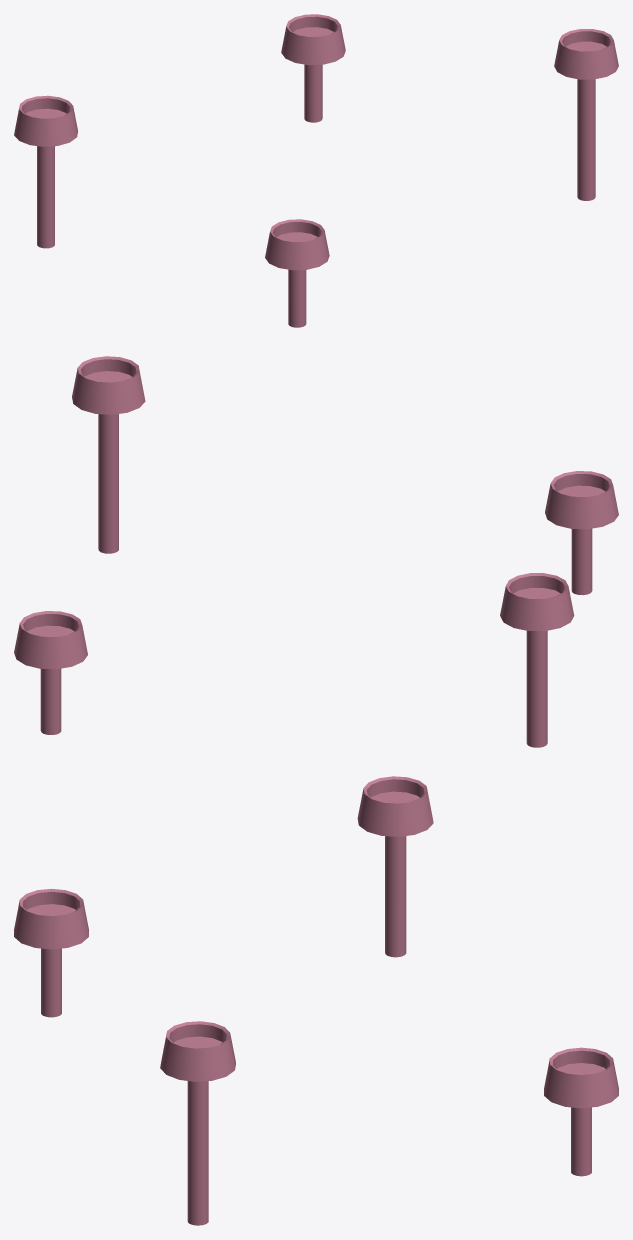
3 views of the same model, one above another, from view 1: azimuth 30°, elevation 25°; view 2: azimuth 150°, elevation 25°; view 3: azimuth 270°, elevation 25° (orthographic). The views are drawn at different scales.
Parts seen in each view (by area): view 1: High_and_low_flower_pots; view 2: High_and_low_flower_pots; view 3: High_and_low_flower_pots.
Part boxes in pixels (bbox=[...]): High_and_low_flower_pots: bbox=[14, 14, 618, 327]; High_and_low_flower_pots: bbox=[14, 356, 618, 747]; High_and_low_flower_pots: bbox=[14, 776, 618, 1225].
Size of the model in its own units: 0.1713 by 0.0542 by 0.1475.
